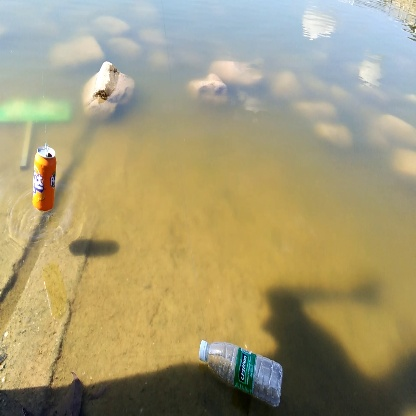bottle: (195, 335, 286, 411), (28, 146, 60, 216)
